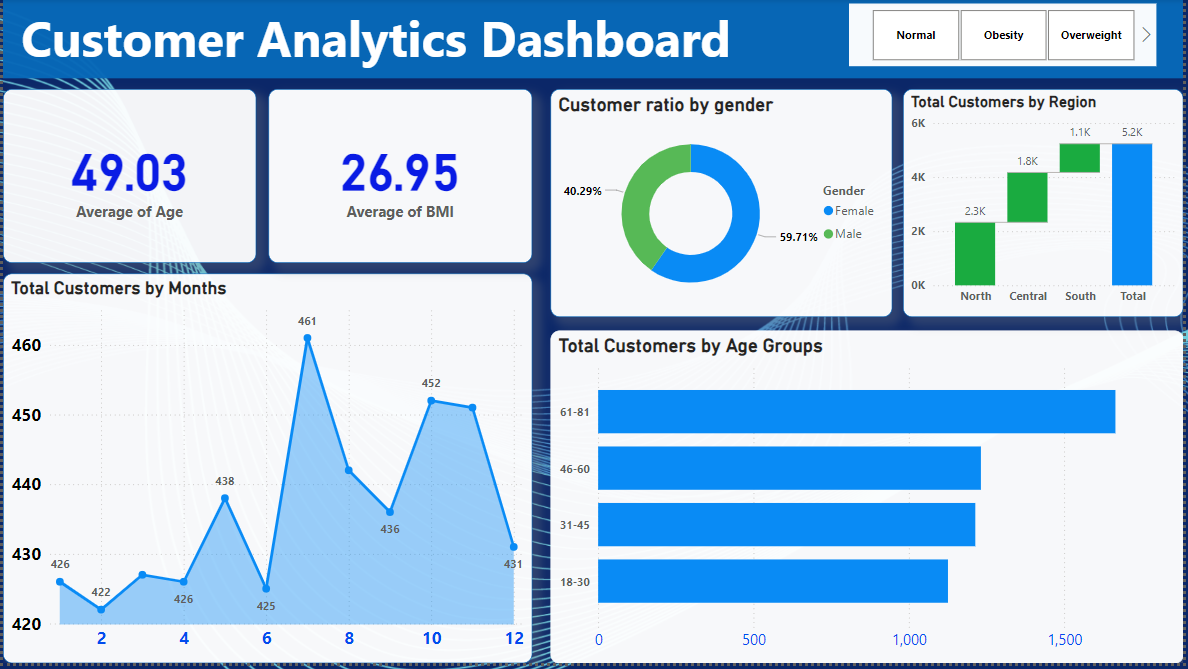

The page's visual inventory and layout, read from the dashboard file:
{"tool":"powerbi","page":{"name":"Customer","canvas":[1280,720],"ordinal":2},"visuals":[{"type":"card","fields":{"Values":["Avg(insurance_data_5237 (2).Age)"]},"box":[0,97.6,274.9,188.7],"z":0},{"type":"donutChart","title":"Customer ratio by gender","fields":{"Series":["insurance_data_5237 (2).Gender"],"Y":["CountNonNull(insurance_data_5237 (2).Customer ID)"]},"box":[593.7,97.6,370.9,247.2],"z":1000},{"type":"clusteredBarChart","title":"Total Customers by Age Groups","fields":{"Y":["CountNonNull(insurance_data_5237 (2).Customer ID)"],"Category":["insurance_data_5237 (2).Age Groups"]},"box":[593.7,359.5,686.4,361.1],"z":2000},{"type":"lineChart","title":"Total Customers by Months","fields":{"Y":["CountNonNull(insurance_data_5237 (2).Customer ID)"],"Category":["insurance_data_5237 (2).Month"]},"box":[0,297.7,574.2,422.9],"z":3000},{"type":"waterfallChart","title":"Total Customers by Region","fields":{"Category":["insurance_data_5237 (2).Region"],"Y":["CountNonNull(insurance_data_5237 (2).Customer ID)"]},"box":[975.9,97.6,304.2,247.2],"z":4000},{"type":"card","fields":{"Values":["Avg(insurance_data_5237 (2).BMI)"]},"box":[287.9,97.6,286.3,188.7],"z":5000},{"type":"textbox","box":[0,0,1280.1,86.2],"z":6000},{"type":"slicer","fields":{"Values":["insurance_data_5237 (2).BMI Rate"]},"box":[917.4,4.9,333.4,68.3],"z":7000}]}

Visuals, with their boxes in screenshot pixels (x1, y1, x2, y2), scaled from the page's 1280x720 canvas onto the 1188x669 screenshot:
card - Avg(insurance_data_5237 (2).Age): [x1=0, y1=91, x2=255, y2=266]
"Customer ratio by gender" donutChart: [x1=551, y1=91, x2=895, y2=320]
"Total Customers by Age Groups" clusteredBarChart: [x1=551, y1=334, x2=1187, y2=668]
"Total Customers by Months" lineChart: [x1=0, y1=277, x2=533, y2=668]
"Total Customers by Region" waterfallChart: [x1=906, y1=91, x2=1187, y2=320]
card - Avg(insurance_data_5237 (2).BMI): [x1=267, y1=91, x2=533, y2=266]
textbox: [x1=0, y1=0, x2=1187, y2=80]
slicer - insurance_data_5237 (2).BMI Rate: [x1=851, y1=5, x2=1161, y2=68]
